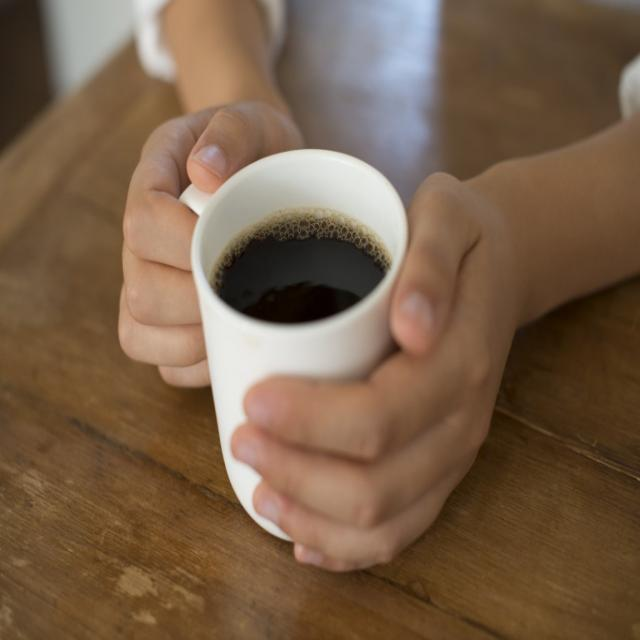cup: (168, 126, 411, 556)
